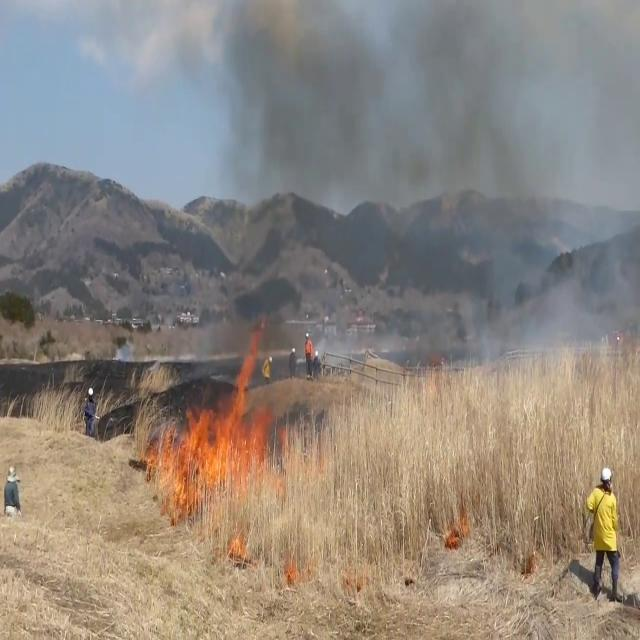Fire: (148, 336, 274, 502)
Smoke: (372, 0, 640, 392), (218, 0, 378, 347)
